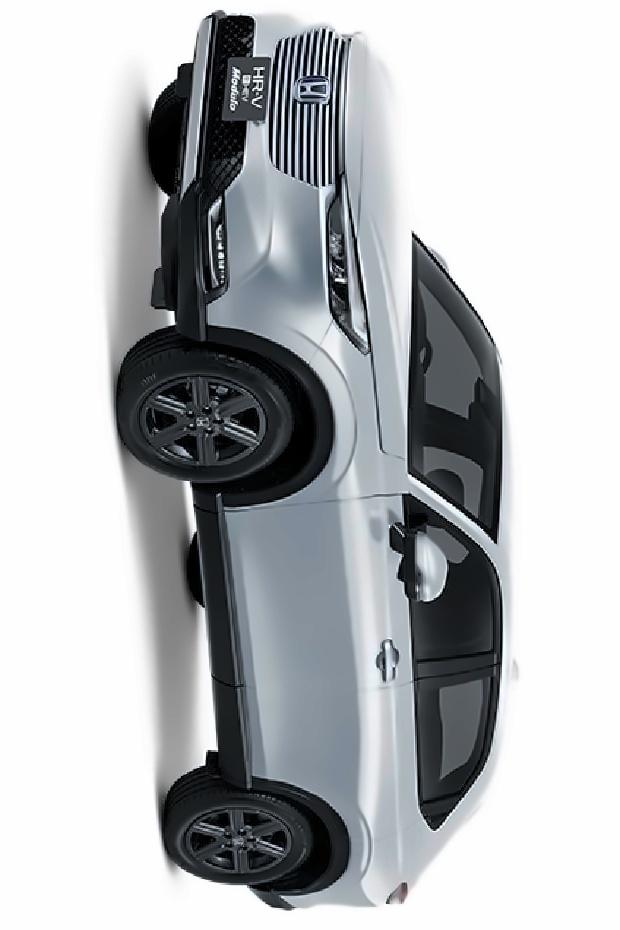Car hood: (333, 24, 424, 473)
Fender - -F-L-: (222, 319, 420, 506)
Fender - -R-L-: (284, 806, 444, 873)
Front bumper: (166, 2, 318, 372)
Headlight - -L-: (310, 166, 380, 363)
Passenger-s door - -F-L-: (216, 501, 504, 688)
Passenger-s door - -R-L-: (224, 686, 504, 806)
Rear bumper: (236, 870, 365, 915)
Rear light - -L-: (374, 870, 420, 913)
Side bumper - -L-: (185, 480, 258, 802)
Side mirror - -L-: (376, 514, 454, 615)
